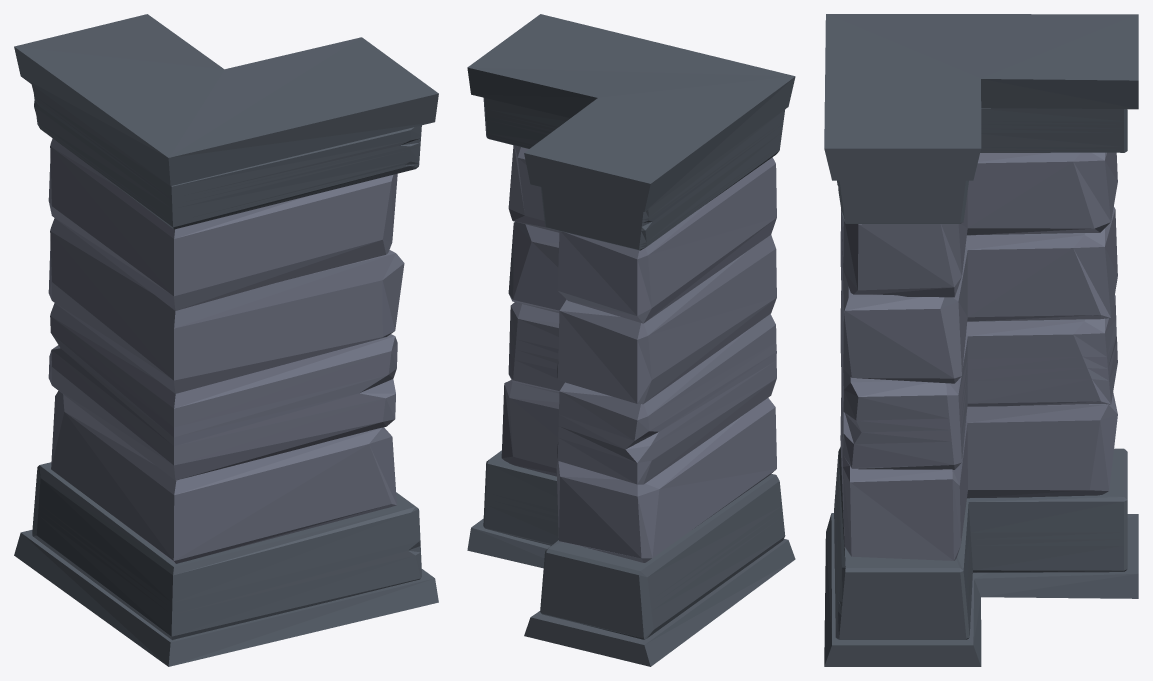
File: Large_Corner_Column.glb
3 renders of one model, left to right at view 1: azimuth 30°, elevation 25°; view 2: azimuth 150°, elevation 25°; view 3: azimuth 270°, elevation 25°, orthographic. The views are drawn at different scales.
Parts seen in each view (by area): view 1: world; view 2: world; view 3: world.
Boxes of the visible parts, <box> form: world: <box>14,14,438,666</box>; world: <box>467,14,795,666</box>; world: <box>824,14,1138,666</box>.
Bounding box in the file's own units: 284 × 511 × 280.
